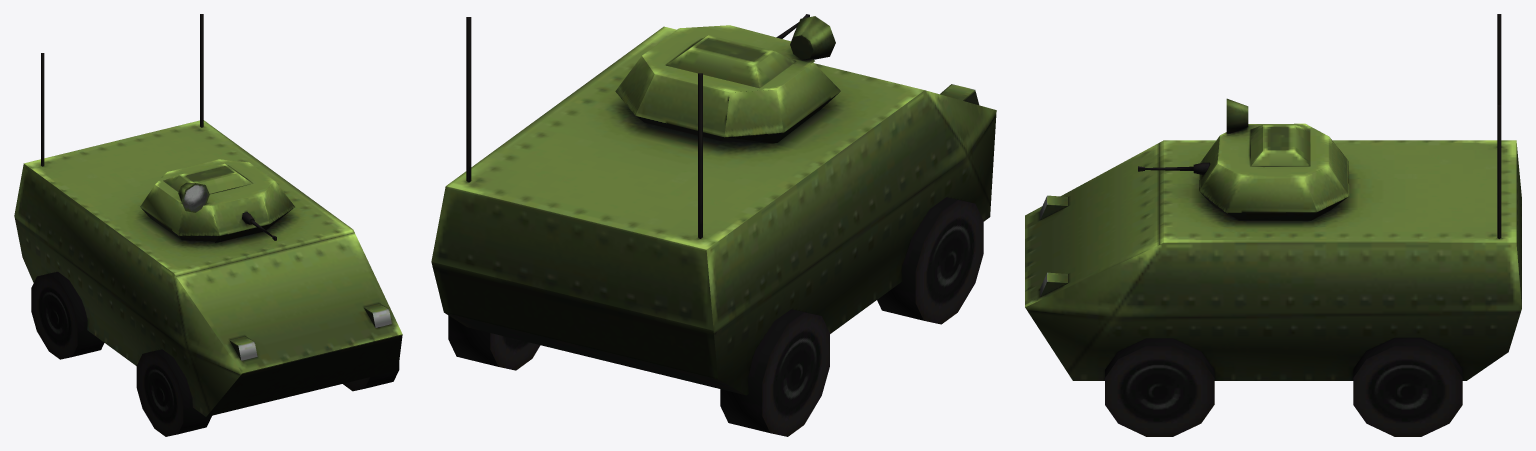
The model's file is ASV_Mounted.DAE.
The picture shows the model from 3 angles, left to right: view 1: azimuth 30°, elevation 25°; view 2: azimuth 150°, elevation 25°; view 3: azimuth 270°, elevation 25°; orthographic projection. The views are drawn at different scales.
Parts seen in each view (by area): view 1: _1062_ASV_Mounted; view 2: _1062_ASV_Mounted; view 3: _1062_ASV_Mounted.
Boxes of the visible parts, x1,y1,x2,y2 form: _1062_ASV_Mounted: [14, 14, 402, 436]; _1062_ASV_Mounted: [431, 14, 996, 436]; _1062_ASV_Mounted: [1025, 14, 1521, 436].
Bounding box in the file's own units: 121 × 143 × 205.
1 material, 1 textured.
